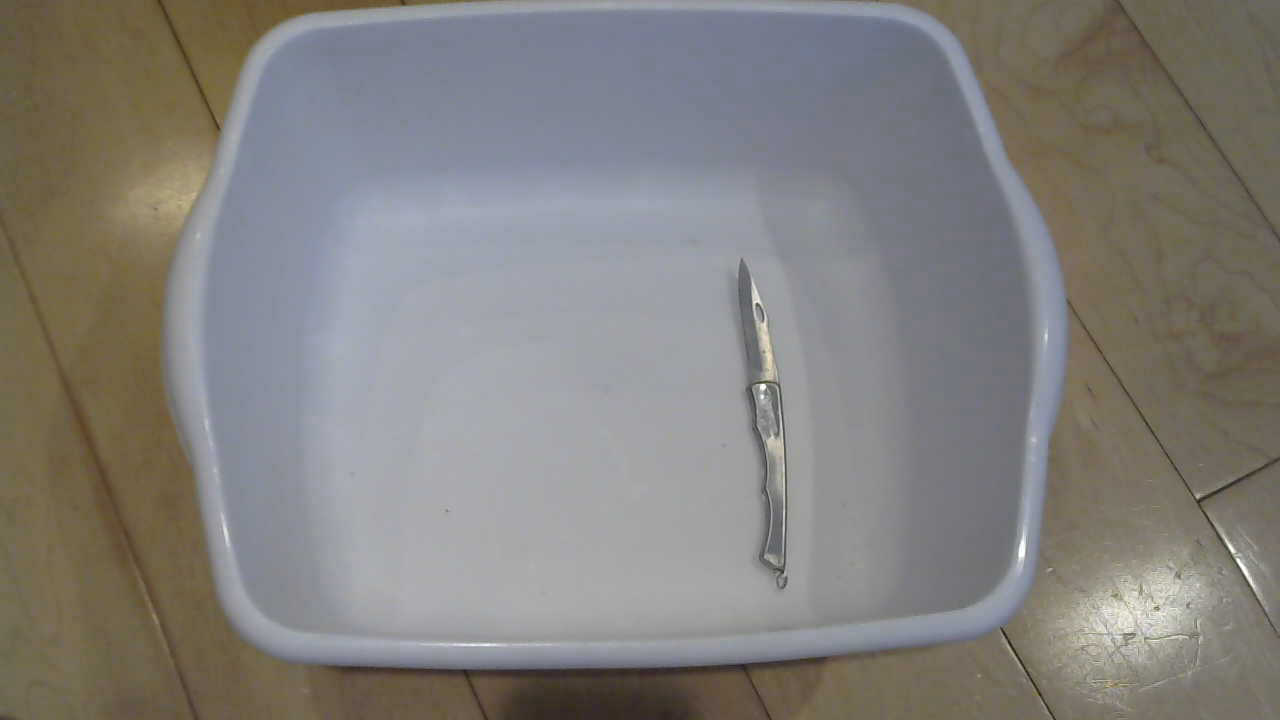knife: (731, 258, 810, 592)
